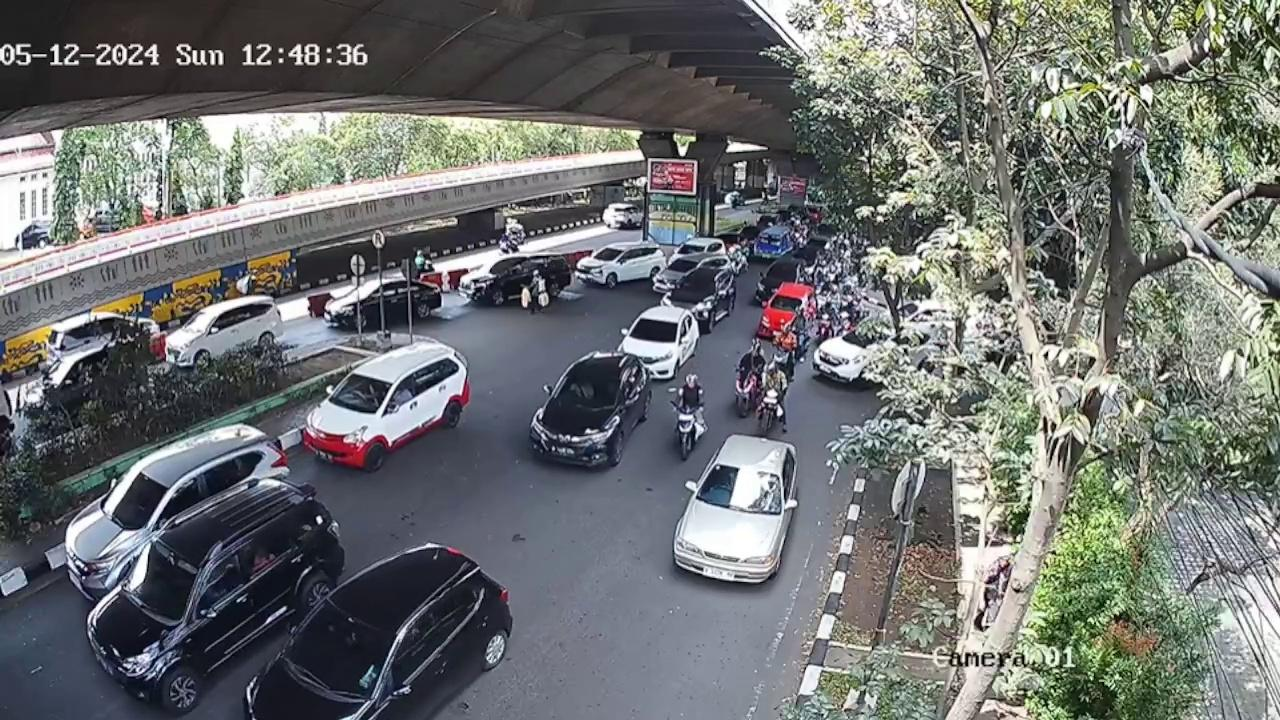pakai: (569, 378, 594, 403)
windshield: (321, 371, 408, 419), (697, 463, 780, 512), (557, 371, 620, 410), (627, 315, 683, 341)
